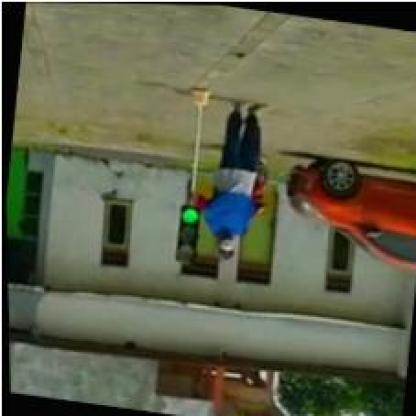green: (171, 201, 199, 264)
